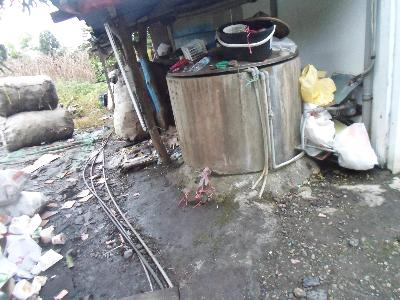bottle: (189, 54, 214, 72)
bucket: (164, 47, 304, 177), (219, 21, 277, 61)
plastic_bag: (1, 107, 78, 157), (332, 116, 381, 178), (1, 70, 63, 117), (299, 102, 335, 159), (300, 63, 338, 109)
